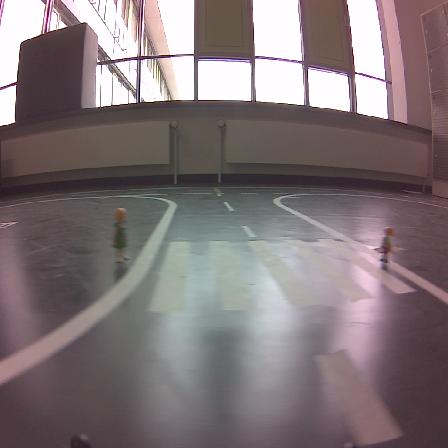CHILD: (375, 227, 393, 267)
PERSON: (112, 208, 126, 262)
